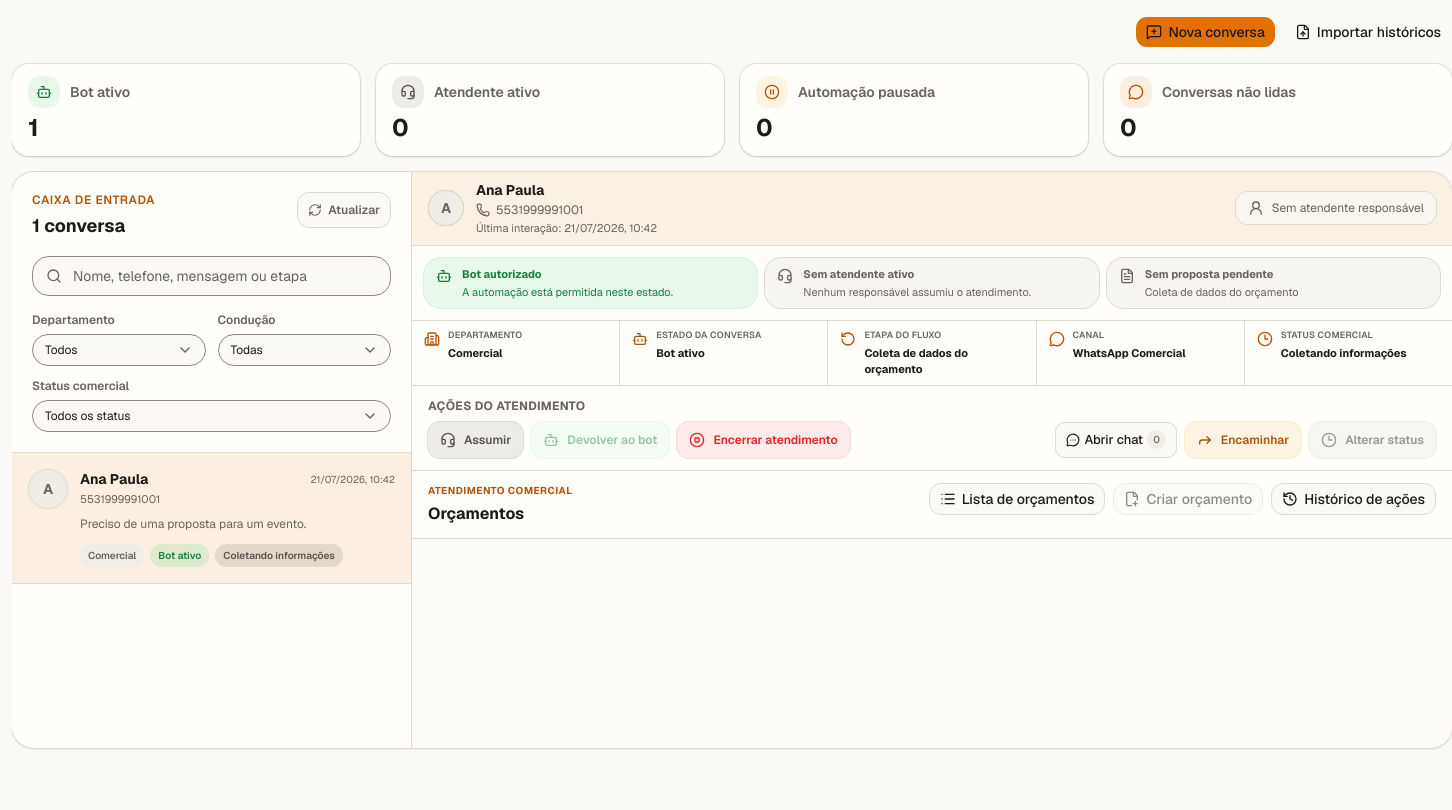
Test: ConversationWorkspace › shows a conflict and replaces stale state with the reloaded conversation
This screenshot has width=1452, height=810.
Click the button "Assumir" at (476, 440), box [428, 422, 523, 458]
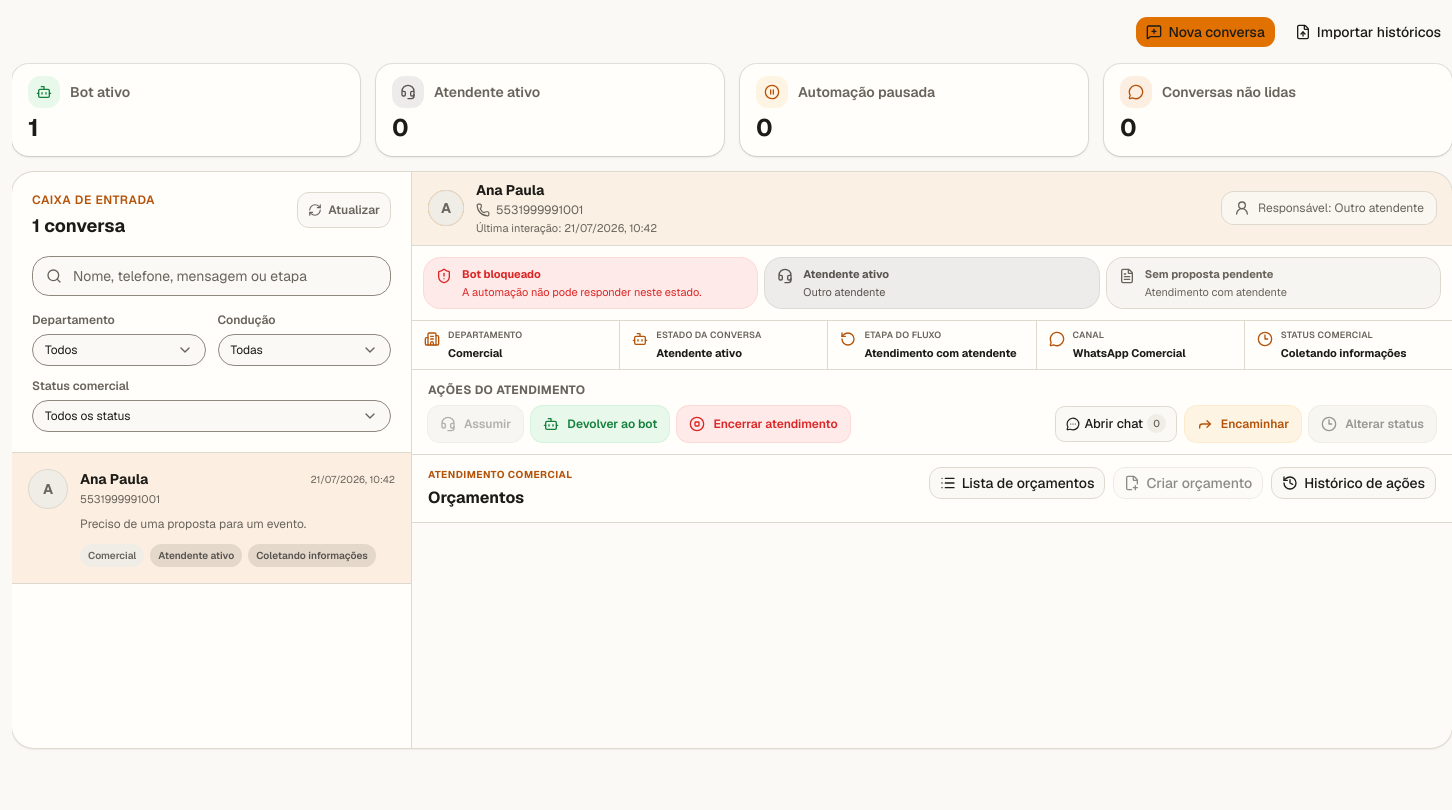
Expected: the text "Bot bloqueado" is shown once, [462, 266, 541, 280]
Now the text "Responsável: Outro atendente" is shown, box [1258, 200, 1424, 216]
